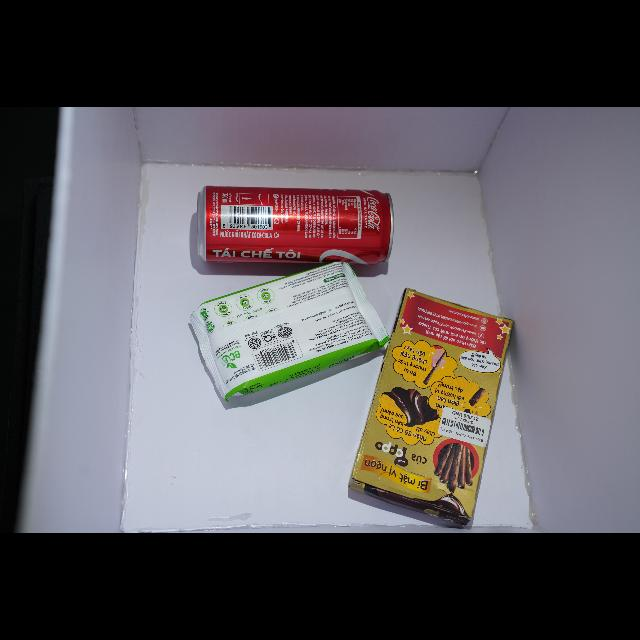banh_toppo_socola: (349, 289, 514, 526)
coca_cola: (200, 186, 393, 264)
khan_giay: (190, 262, 389, 401)
